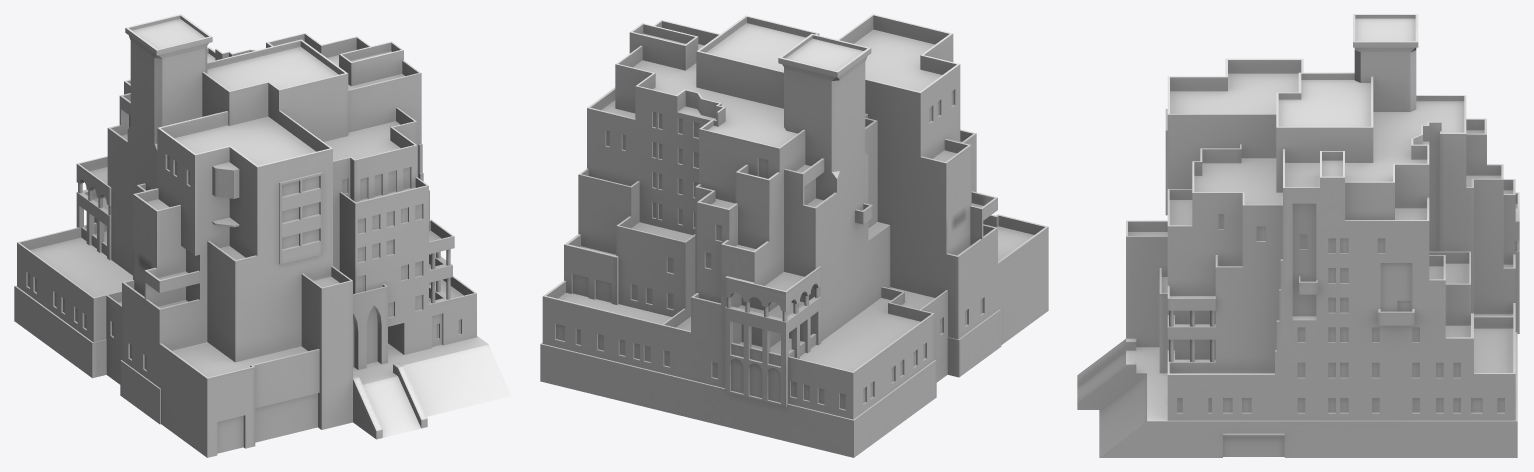
The model's file is dubaimunicipality.gltf.
The picture shows the model from 3 angles, left to right: view 1: azimuth 30°, elevation 25°; view 2: azimuth 150°, elevation 25°; view 3: azimuth 270°, elevation 25°; orthographic projection. The views are drawn at different scales.
Parts seen in each view (by area): view 1: dubaimunicipality; view 2: dubaimunicipality; view 3: dubaimunicipality.
Part boxes in pixels (x1,y1,x2,y2): dubaimunicipality: (14, 14, 511, 457); dubaimunicipality: (540, 14, 1048, 457); dubaimunicipality: (1077, 14, 1519, 457).
Size of the model in its own units: 37.67 by 37.38 by 46.01.
Materials: 1 (1 with a texture image).
